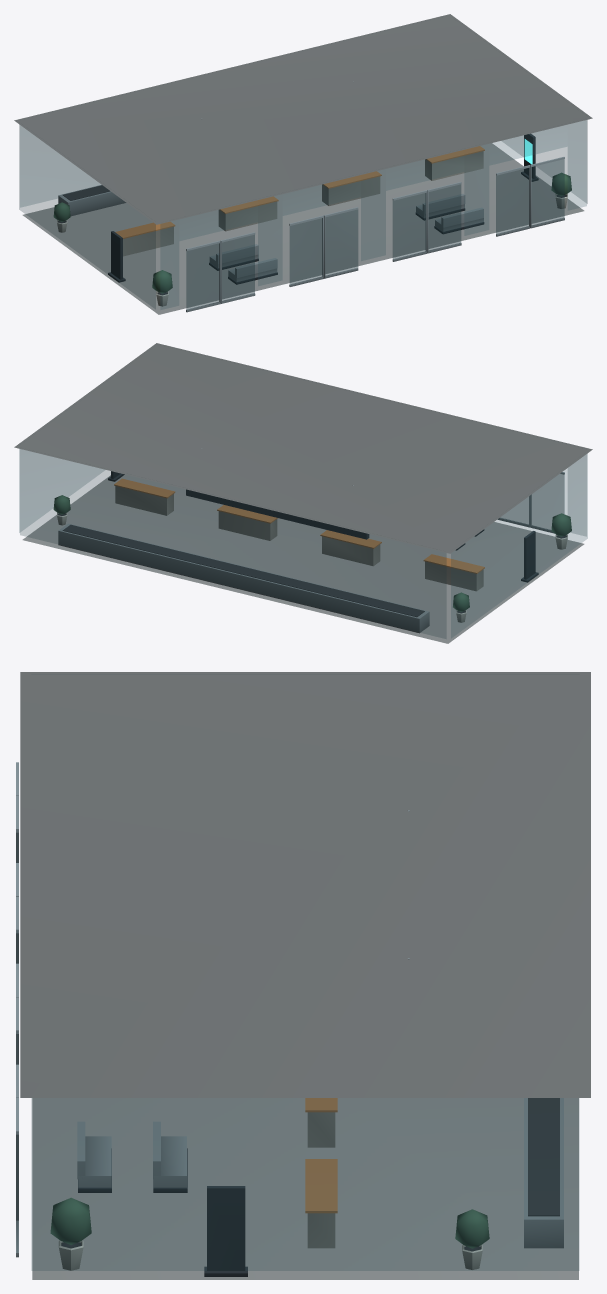
The model's file is lobby-missions.lod2.glb.
3 renders of one model, top to bottom at view 1: azimuth 30°, elevation 25°; view 2: azimuth 150°, elevation 25°; view 3: azimuth 270°, elevation 25°, orthographic. The views are drawn at different scales.
Parts seen in each view (by area): view 1: structure, door_2_l, door_0_r, door_3_l, door_0_l, door_3_r, door_1_l, door_1_r, door_2_r, foliage; view 2: structure, door_0_l, foliage, door_0_r; view 3: structure, foliage.
Part boxes in pixels (<box>): structure: <box>14,14,592,314</box>; door_2_l: <box>392,190,427,261</box>; door_0_r: <box>220,232,255,303</box>; door_3_l: <box>496,165,530,236</box>; door_0_l: <box>186,240,220,312</box>; door_3_r: <box>530,157,564,228</box>; door_1_l: <box>289,215,323,286</box>; door_1_r: <box>324,207,358,278</box>; door_2_r: <box>427,182,461,253</box>; foliage: <box>53,172,571,293</box>; structure: <box>14,343,592,643</box>; door_0_l: <box>530,472,564,533</box>; foliage: <box>53,495,571,611</box>; door_0_r: <box>497,495,530,527</box>; structure: <box>20,672,590,1279</box>; foliage: <box>50,1197,489,1248</box>.
Size of the model in its own units: 25.36 by 5.22 by 14.46.
